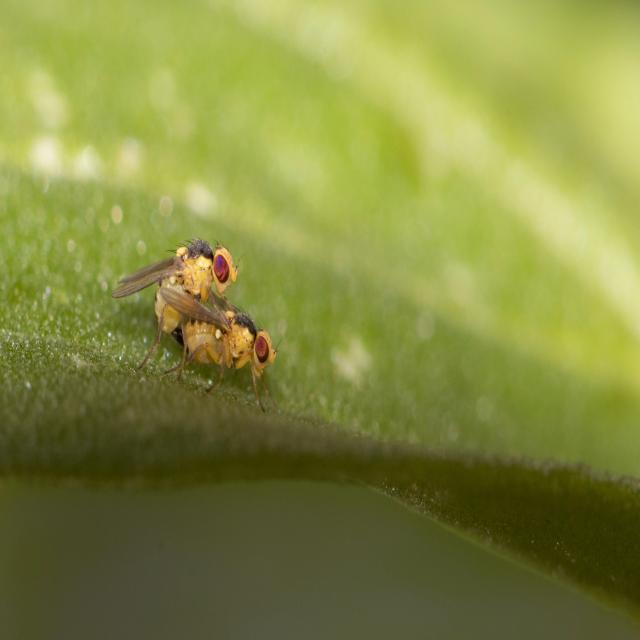Serpentine leafminer: (108, 230, 279, 414)
